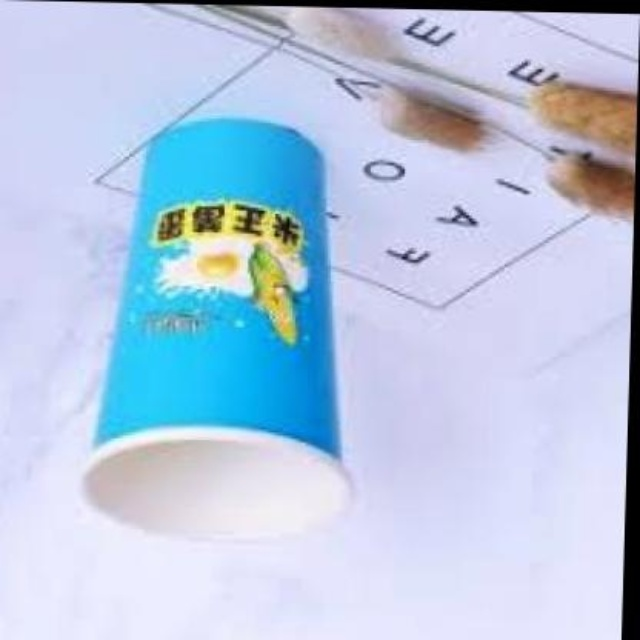trash: (85, 118, 348, 534)
